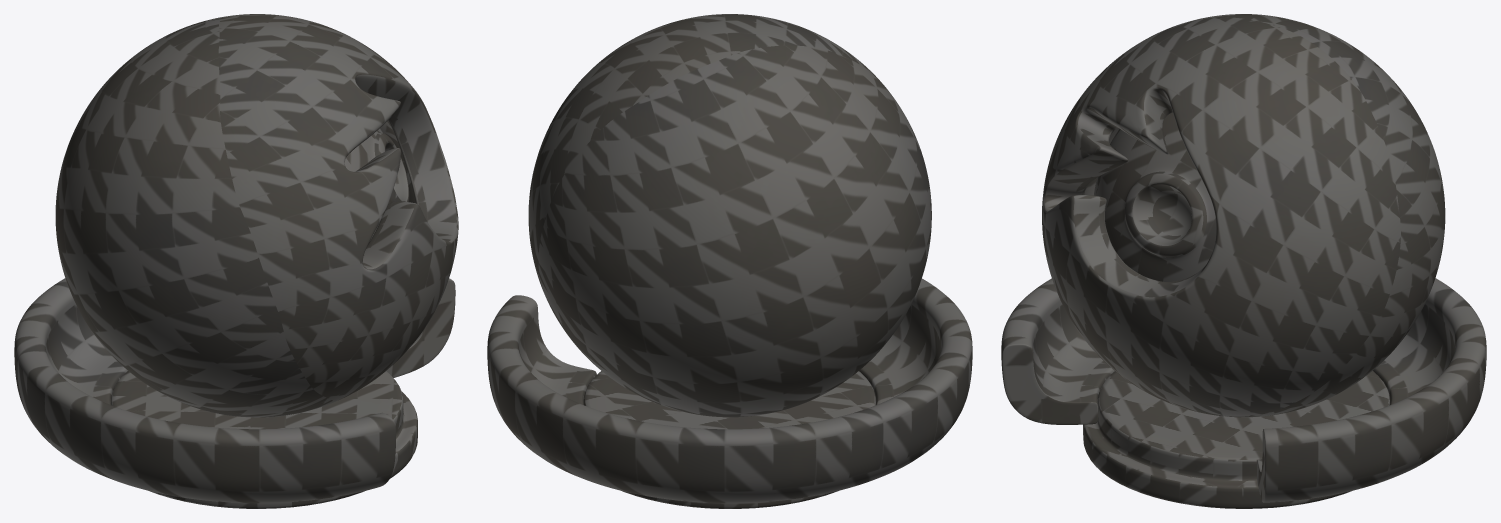
Rendered from shaderball.glb.
3 renders of one model, left to right at view 1: azimuth 30°, elevation 25°; view 2: azimuth 150°, elevation 25°; view 3: azimuth 270°, elevation 25°, orthographic.
Visible parts, largest first — view 1: WithSeam; view 2: WithSeam; view 3: WithSeam.
Boxes of the visible parts, x1,y1,x2,y2 form: WithSeam: [14, 14, 458, 508]; WithSeam: [487, 14, 972, 508]; WithSeam: [1001, 14, 1486, 508].
Bounding box in the file's own units: 11.96 × 11.17 × 11.99.
1 material, 1 textured.
